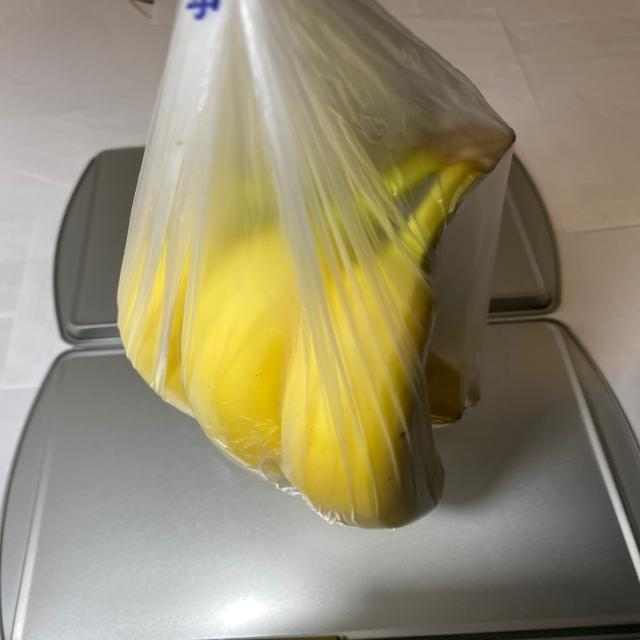banana: (117, 59, 520, 538)
